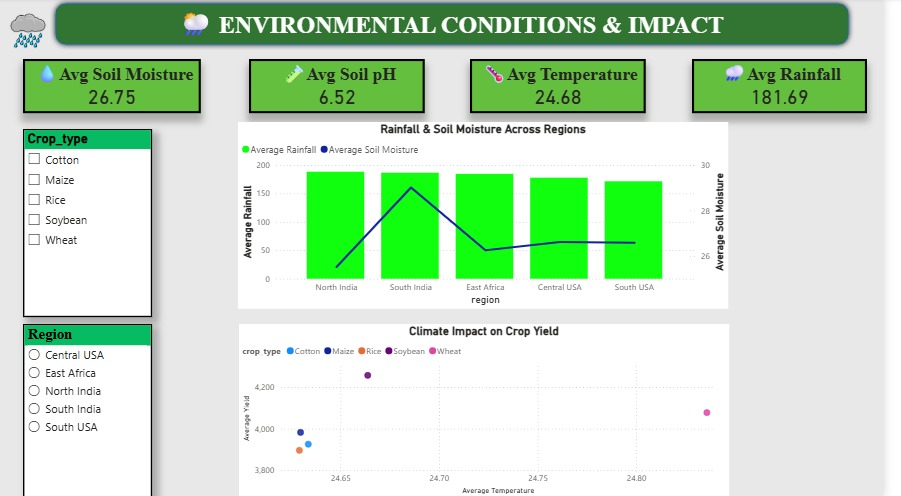

The dashboard page shown, as its layout file describes it:
{"tool":"powerbi","page":{"name":"Environmental Conditions","canvas":[1280,720],"ordinal":2},"visuals":[{"type":"shape","box":[79.2,0,1157.8,74.9],"z":0},{"type":"card","title":"💧Avg Soil Moisture","fields":{"Values":["Smart_Farming_Crop_Yield_2024 (1).Average Soil Moisture"]},"box":[40.3,87.8,256.3,77.8],"z":1000},{"type":"card","title":"🧪Avg Soil pH","fields":{"Values":["Smart_Farming_Crop_Yield_2024 (1).Average Soil pH"]},"box":[365.8,87.8,253.4,77.8],"z":2000},{"type":"card","title":"🌡️Avg Temperature","fields":{"Values":["Smart_Farming_Crop_Yield_2024 (1).Average Temperature"]},"box":[684,87.8,253.4,77.8],"z":3000},{"type":"card","title":"🌧️Avg Rainfall","fields":{"Values":["Smart_Farming_Crop_Yield_2024 (1).Average Rainfall"]},"box":[1003.7,87.8,252,77.8],"z":4000},{"type":"listSlicer","title":"Crop_type","fields":{"Values":["Smart_Farming_Crop_Yield_2024 (1).crop_type"]},"box":[39.8,188.2,185.8,270.7],"z":5000},{"type":"listSlicer","title":"Region","fields":{"Values":["Smart_Farming_Crop_Yield_2024 (1).region"]},"box":[39.8,469.3,185.8,250.6],"z":6000},{"type":"lineClusteredColumnComboChart","title":"Rainfall & Soil Moisture Across Regions","fields":{"Category":["Smart_Farming_Crop_Yield_2024 (1).region"],"Y":["Smart_Farming_Crop_Yield_2024 (1).Average Rainfall"],"Y2":["Smart_Farming_Crop_Yield_2024 (1).Average Soil Moisture"]},"box":[349.9,178.6,705.8,269],"z":7000},{"type":"scatterChart","title":"Climate Impact on Crop Yield","fields":{"X":["Smart_Farming_Crop_Yield_2024 (1).Average Temperature"],"Y":["Smart_Farming_Crop_Yield_2024 (1).Average Yield"],"Series":["Smart_Farming_Crop_Yield_2024 (1).crop_type"]},"box":[351.1,469.3,705.8,249.7],"z":8000},{"type":"image","box":[0,0,95.3,94.1],"z":9000}]}

Visuals, with their boxes in screenshot pixels (x1, y1, x2, y2), scaled from the page's 1280x720 canvas onto the 901x496 screenshot:
shape: left=56, top=0, right=871, bottom=52
"💧Avg Soil Moisture" card: left=28, top=60, right=209, bottom=114
"🧪Avg Soil pH" card: left=257, top=60, right=436, bottom=114
"🌡️Avg Temperature" card: left=481, top=60, right=660, bottom=114
"🌧️Avg Rainfall" card: left=707, top=60, right=884, bottom=114
"Crop_type" listSlicer: left=28, top=130, right=159, bottom=316
"Region" listSlicer: left=28, top=323, right=159, bottom=495
"Rainfall & Soil Moisture Across Regions" lineClusteredColumnComboChart: left=246, top=123, right=743, bottom=308
"Climate Impact on Crop Yield" scatterChart: left=247, top=323, right=744, bottom=495
image: left=0, top=0, right=67, bottom=65
